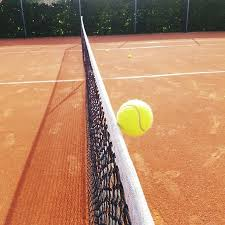tennis_ball: (116, 98, 154, 138)
